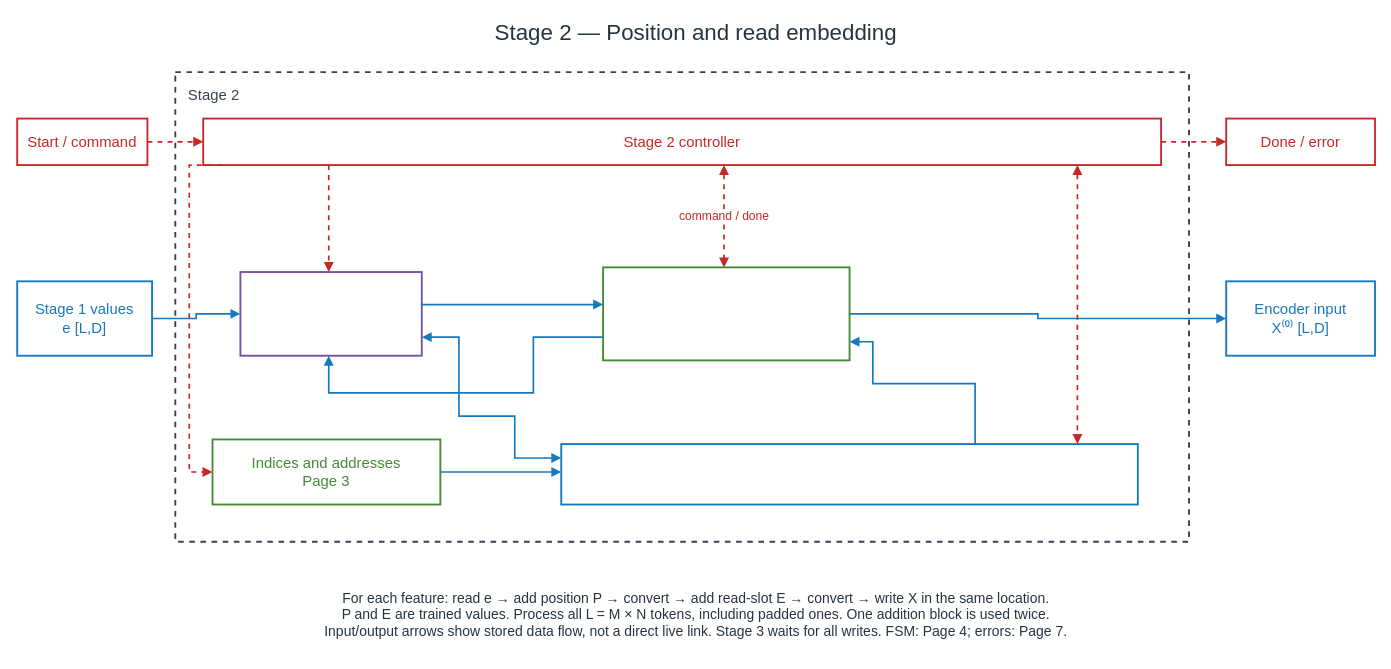
Some shapes in this 1391 by 669 pixel diagram are drawn without their labels. Here are the shapes that lost their labels. From the top down, the centre of each, then its label:
the point at 330,313: Current value register
the point at 726,313: Addition block Used twice per value Page 2
the point at 849,474: Memory access: X read / write position P and read-slot E reads
